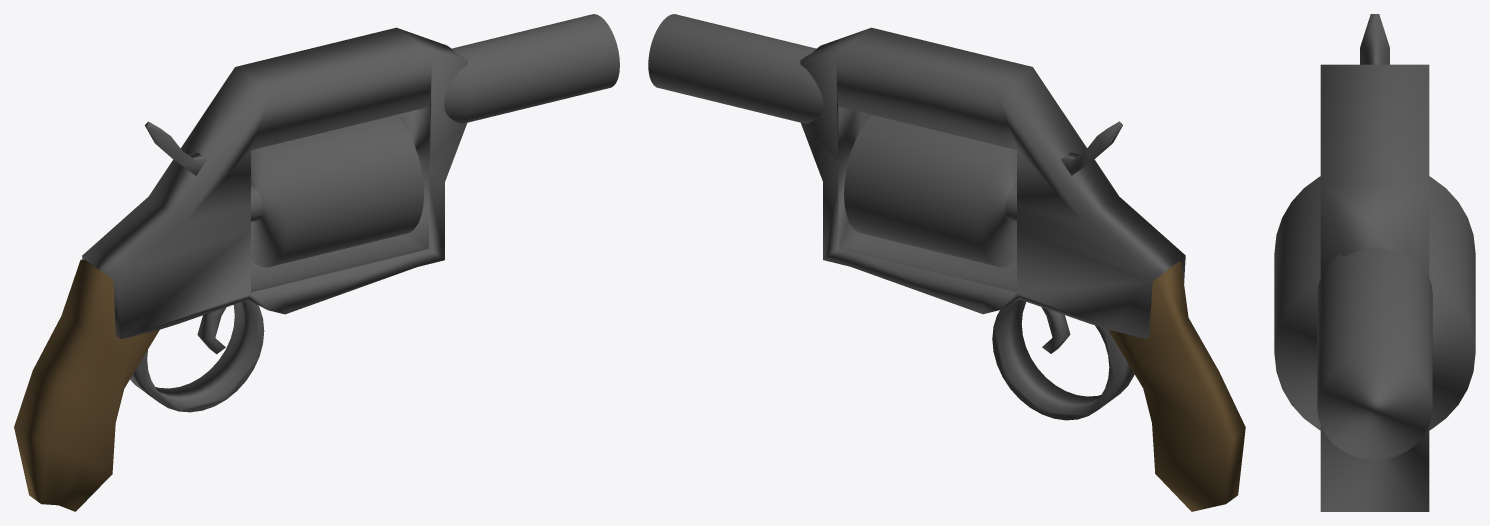
Rendered from pewpewpistolofdespair2.glb.
3 renders of one model, left to right at view 1: azimuth 30°, elevation 25°; view 2: azimuth 150°, elevation 25°; view 3: azimuth 270°, elevation 25°, orthographic. The views are drawn at different scales.
Parts seen in each view (by area): view 1: Cylinder.003, Cylinder.006, Cube, Cylinder.004, Cylinder.001, Cylinder.005, Cube.001; view 2: Cylinder.003, Cylinder.006, Cube, Cylinder.004, Cylinder.001, Cylinder.005, Cube.001; view 3: Cylinder.003, Cylinder.004, Cylinder.006, Cylinder.005.
Boxes of the visible parts, <box> form: Cylinder.003: <box>82,27,467,339</box>; Cylinder.006: <box>251,115,423,267</box>; Cube: <box>14,259,159,511</box>; Cylinder.004: <box>444,14,619,123</box>; Cylinder.001: <box>130,300,264,412</box>; Cylinder.005: <box>144,121,206,175</box>; Cube.001: <box>197,307,226,354</box>; Cylinder.003: <box>800,27,1185,338</box>; Cylinder.006: <box>844,114,1016,267</box>; Cube: <box>1108,261,1245,511</box>; Cylinder.004: <box>648,14,823,123</box>; Cylinder.001: <box>992,299,1134,420</box>; Cylinder.005: <box>1061,121,1122,175</box>; Cube.001: <box>1041,307,1070,353</box>; Cylinder.003: <box>1320,64,1429,511</box>; Cylinder.004: <box>1317,247,1432,459</box>; Cylinder.006: <box>1274,176,1475,430</box>; Cylinder.005: <box>1360,14,1389,64</box>.
Size of the model in its own units: 2.11 by 1.35 by 0.4235.
